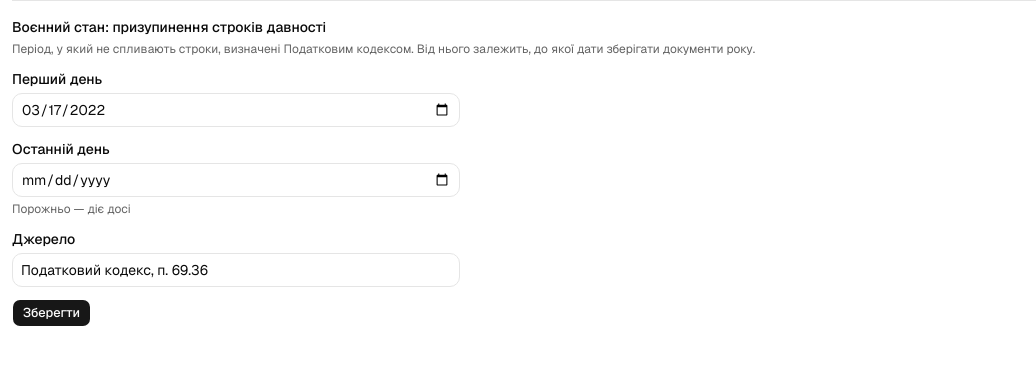
Test: LimitationSuspensionSection › shows the 403 the same way the tax years do
The image size is (1036, 372).
What coordinates should you click on to do the following:
click the button "Зберегти"
I would click on:
 (52, 313)
Its box is [12,299,91,327].
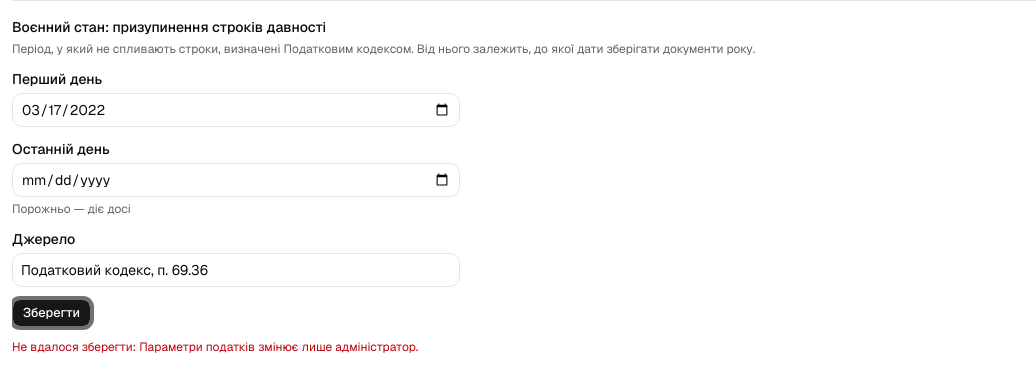
Expected: the text "Не вдалося зберегти" is shown, [12,339,418,355]
